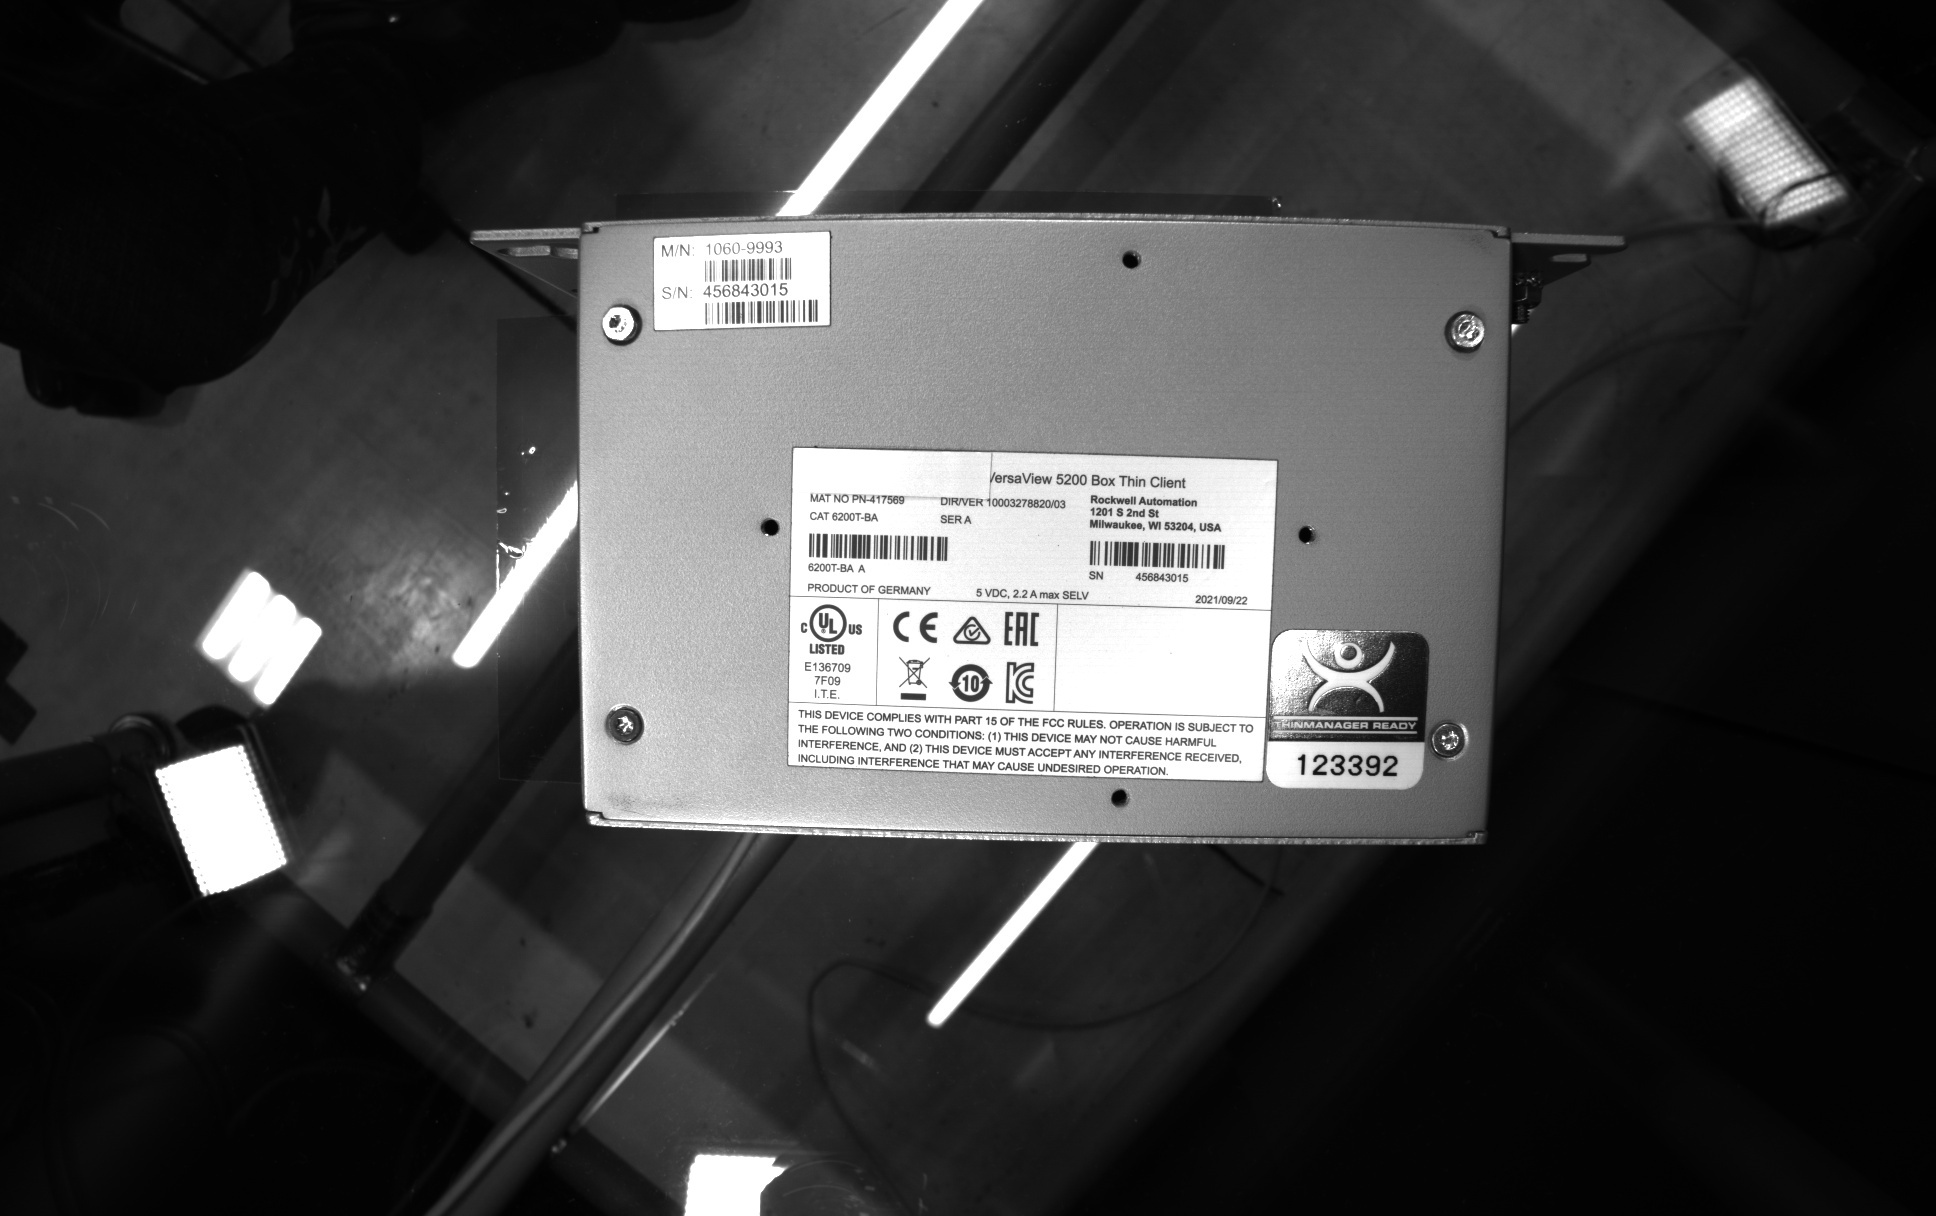Barcode: (798, 528, 955, 566), (1080, 534, 1231, 572), (696, 296, 827, 331), (693, 254, 797, 287)
CamTop: (559, 193, 1528, 876)
Label_Seriennummer: (777, 434, 1285, 794)
Loch_Montage: (747, 504, 787, 551), (1094, 778, 1138, 817), (1287, 511, 1327, 553), (1111, 235, 1152, 275)
Schraube: (597, 698, 649, 754), (1425, 712, 1474, 766)
Schraube_halb: (1436, 305, 1493, 359), (594, 298, 644, 350)
